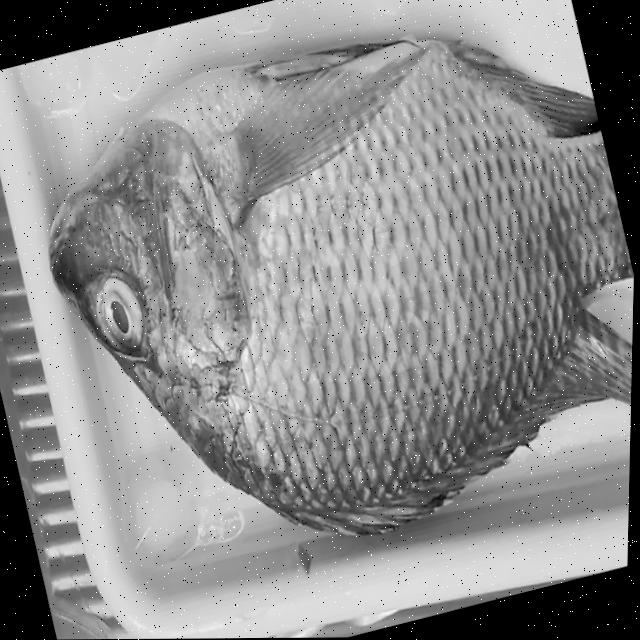Fresh: (106, 27, 540, 536), (73, 257, 161, 378)
